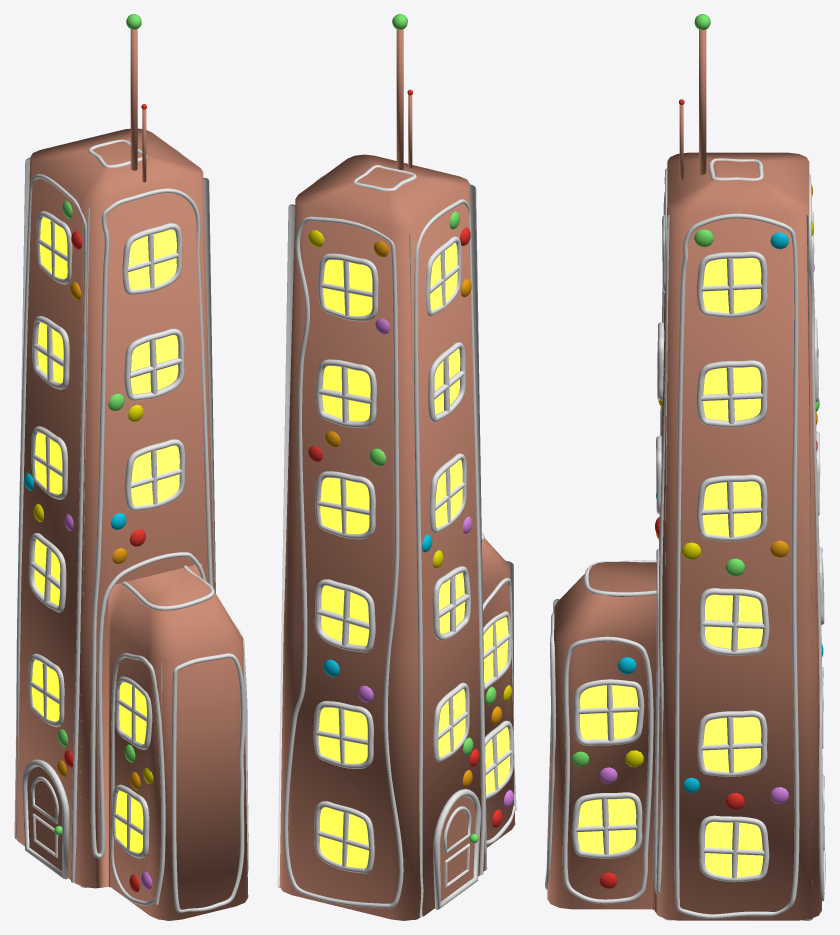
The model's file is skyscraper.glb.
3 views of the same model, side by side, from view 1: azimuth 30°, elevation 25°; view 2: azimuth 150°, elevation 25°; view 3: azimuth 270°, elevation 25° (orthographic). The views are drawn at different scales.
Parts seen in each view (by area): view 1: Cube.006, Simple_GP_Layer.022, Simple_GP_Layer.027, Simple_GP_Layer.024, Simple_GP_Layer.029, Circle.005, Cylinder.012, Circle, Cylinder.010; view 2: Cube.006, Simple_GP_Layer.023, Simple_GP_Layer.022, Simple_GP_Layer.027, Circle.005, Simple_GP_Layer.029, Cylinder.011, Cylinder.009, Circle; view 3: Cube.006, Simple_GP_Layer.025, Simple_GP_Layer.022, Simple_GP_Layer.030, Simple_GP_Layer.023, Simple_GP_Layer.024, Circle, Cylinder.011.
Part boxes in pixels (<box>): Cube.006: <box>14,128,248,920</box>; Simple_GP_Layer.022: <box>15,139,248,912</box>; Simple_GP_Layer.027: <box>28,211,72,727</box>; Simple_GP_Layer.024: <box>122,223,185,510</box>; Simple_GP_Layer.029: <box>112,676,152,858</box>; Circle.005: <box>22,759,69,879</box>; Cylinder.012: <box>203,178,215,592</box>; Circle: <box>130,29,137,170</box>; Cylinder.010: <box>14,157,30,837</box>; Cube.006: <box>279,154,515,920</box>; Simple_GP_Layer.023: <box>313,253,378,873</box>; Simple_GP_Layer.022: <box>283,165,516,917</box>; Simple_GP_Layer.027: <box>425,236,470,762</box>; Circle.005: <box>433,789,480,909</box>; Simple_GP_Layer.029: <box>483,611,513,799</box>; Cylinder.011: <box>277,204,295,887</box>; Cylinder.009: <box>470,184,487,870</box>; Circle: <box>396,29,403,170</box>; Cube.006: <box>547,152,821,920</box>; Simple_GP_Layer.025: <box>696,251,769,882</box>; Simple_GP_Layer.022: <box>545,158,825,918</box>; Simple_GP_Layer.030: <box>571,679,644,858</box>; Simple_GP_Layer.023: <box>811,211,824,849</box>; Simple_GP_Layer.024: <box>656,215,665,514</box>; Circle: <box>699,29,706,175</box>; Cylinder.011: <box>803,214,812,920</box>.
Size of the model in its own units: 2.16 by 11.49 by 3.35.
